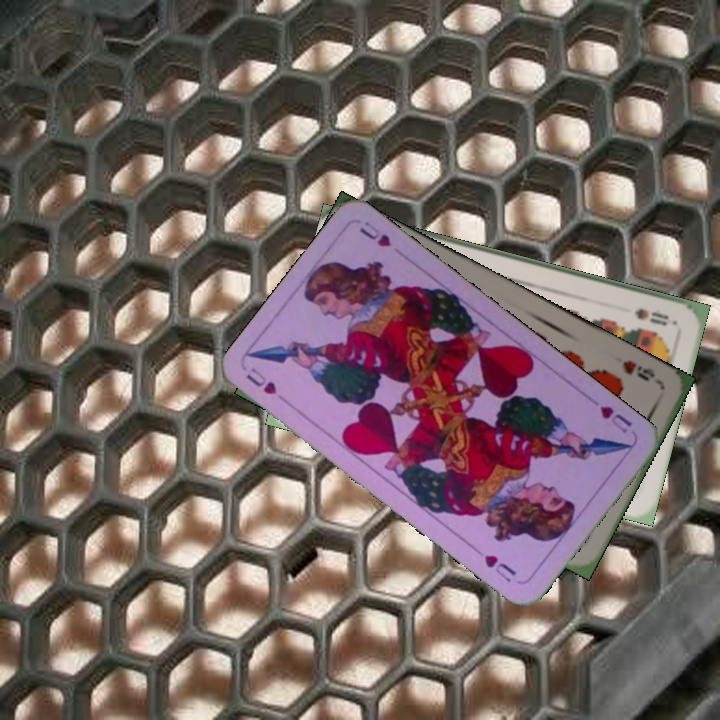H9: (618, 356, 664, 387)
HU: (242, 363, 293, 406), (595, 401, 635, 436)
S8: (631, 304, 672, 329)
